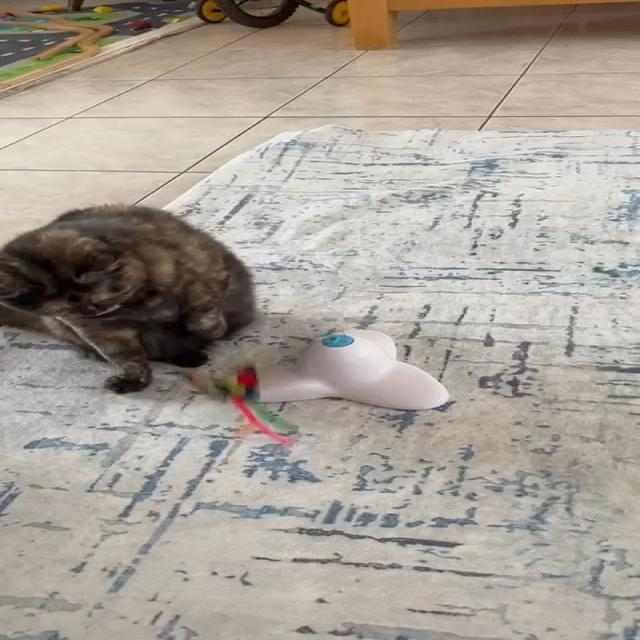authorized: (0, 201, 256, 394)
